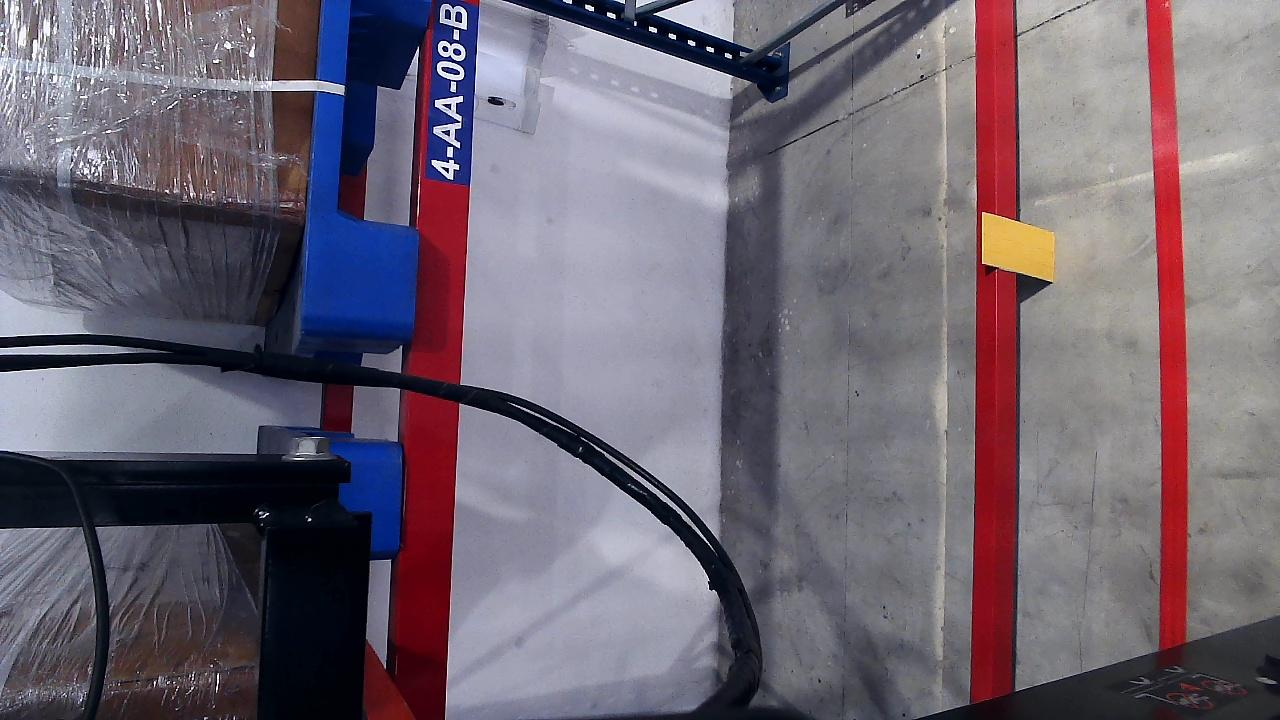h_rack: (393, 2, 473, 716), (972, 1, 1014, 705)
orange_strip: (979, 210, 1056, 277)
red_line: (1147, 0, 1188, 648)
small_pallet: (297, 1, 432, 322)
